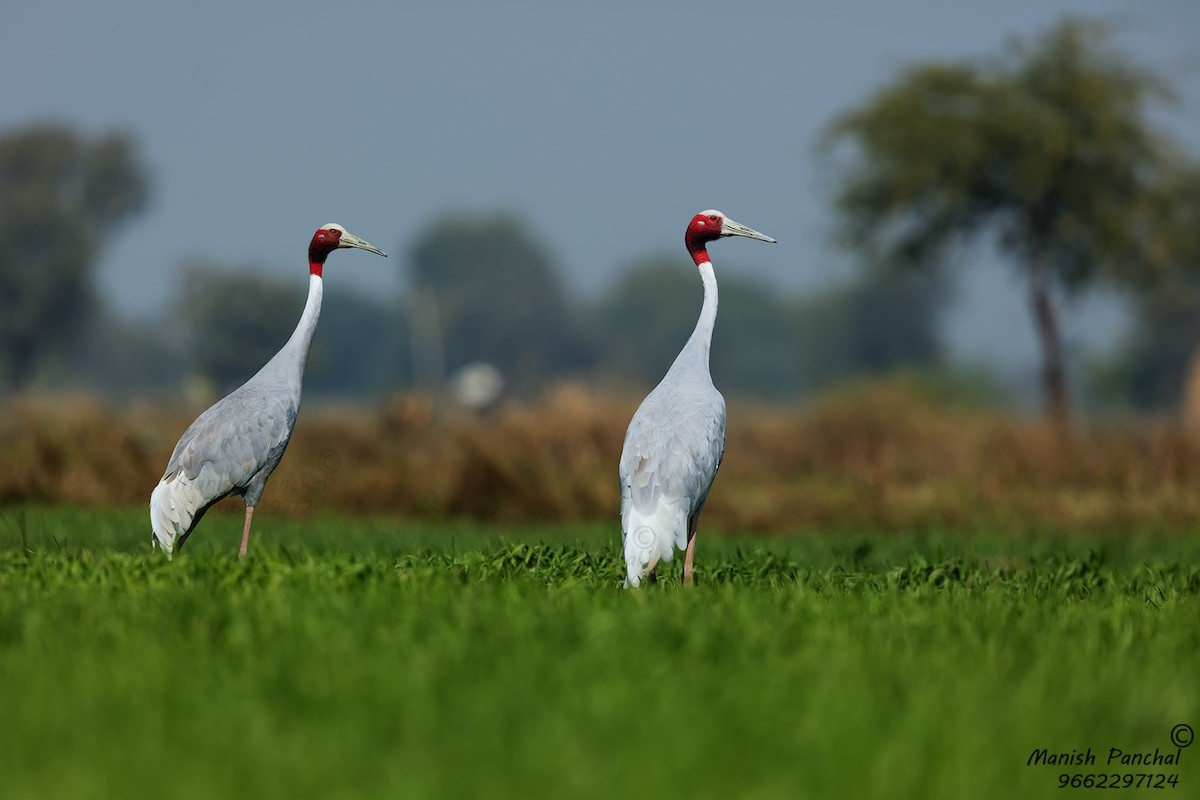crane: (159, 212, 391, 571), (610, 211, 780, 599)
